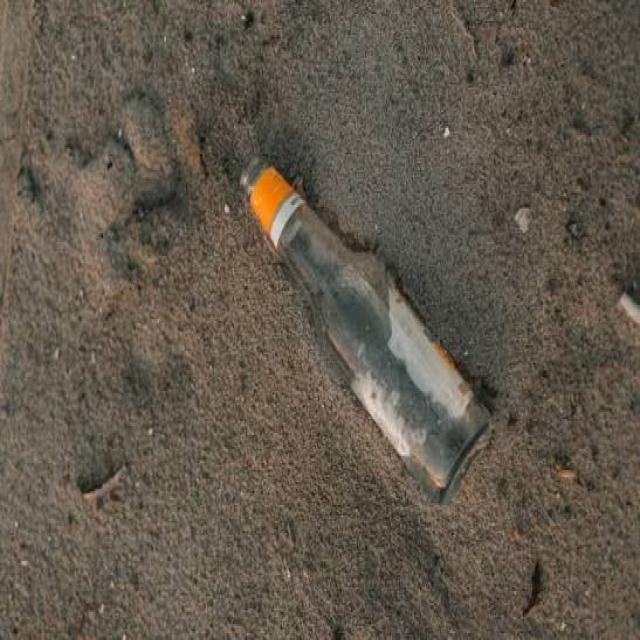glass: (233, 128, 535, 584)
